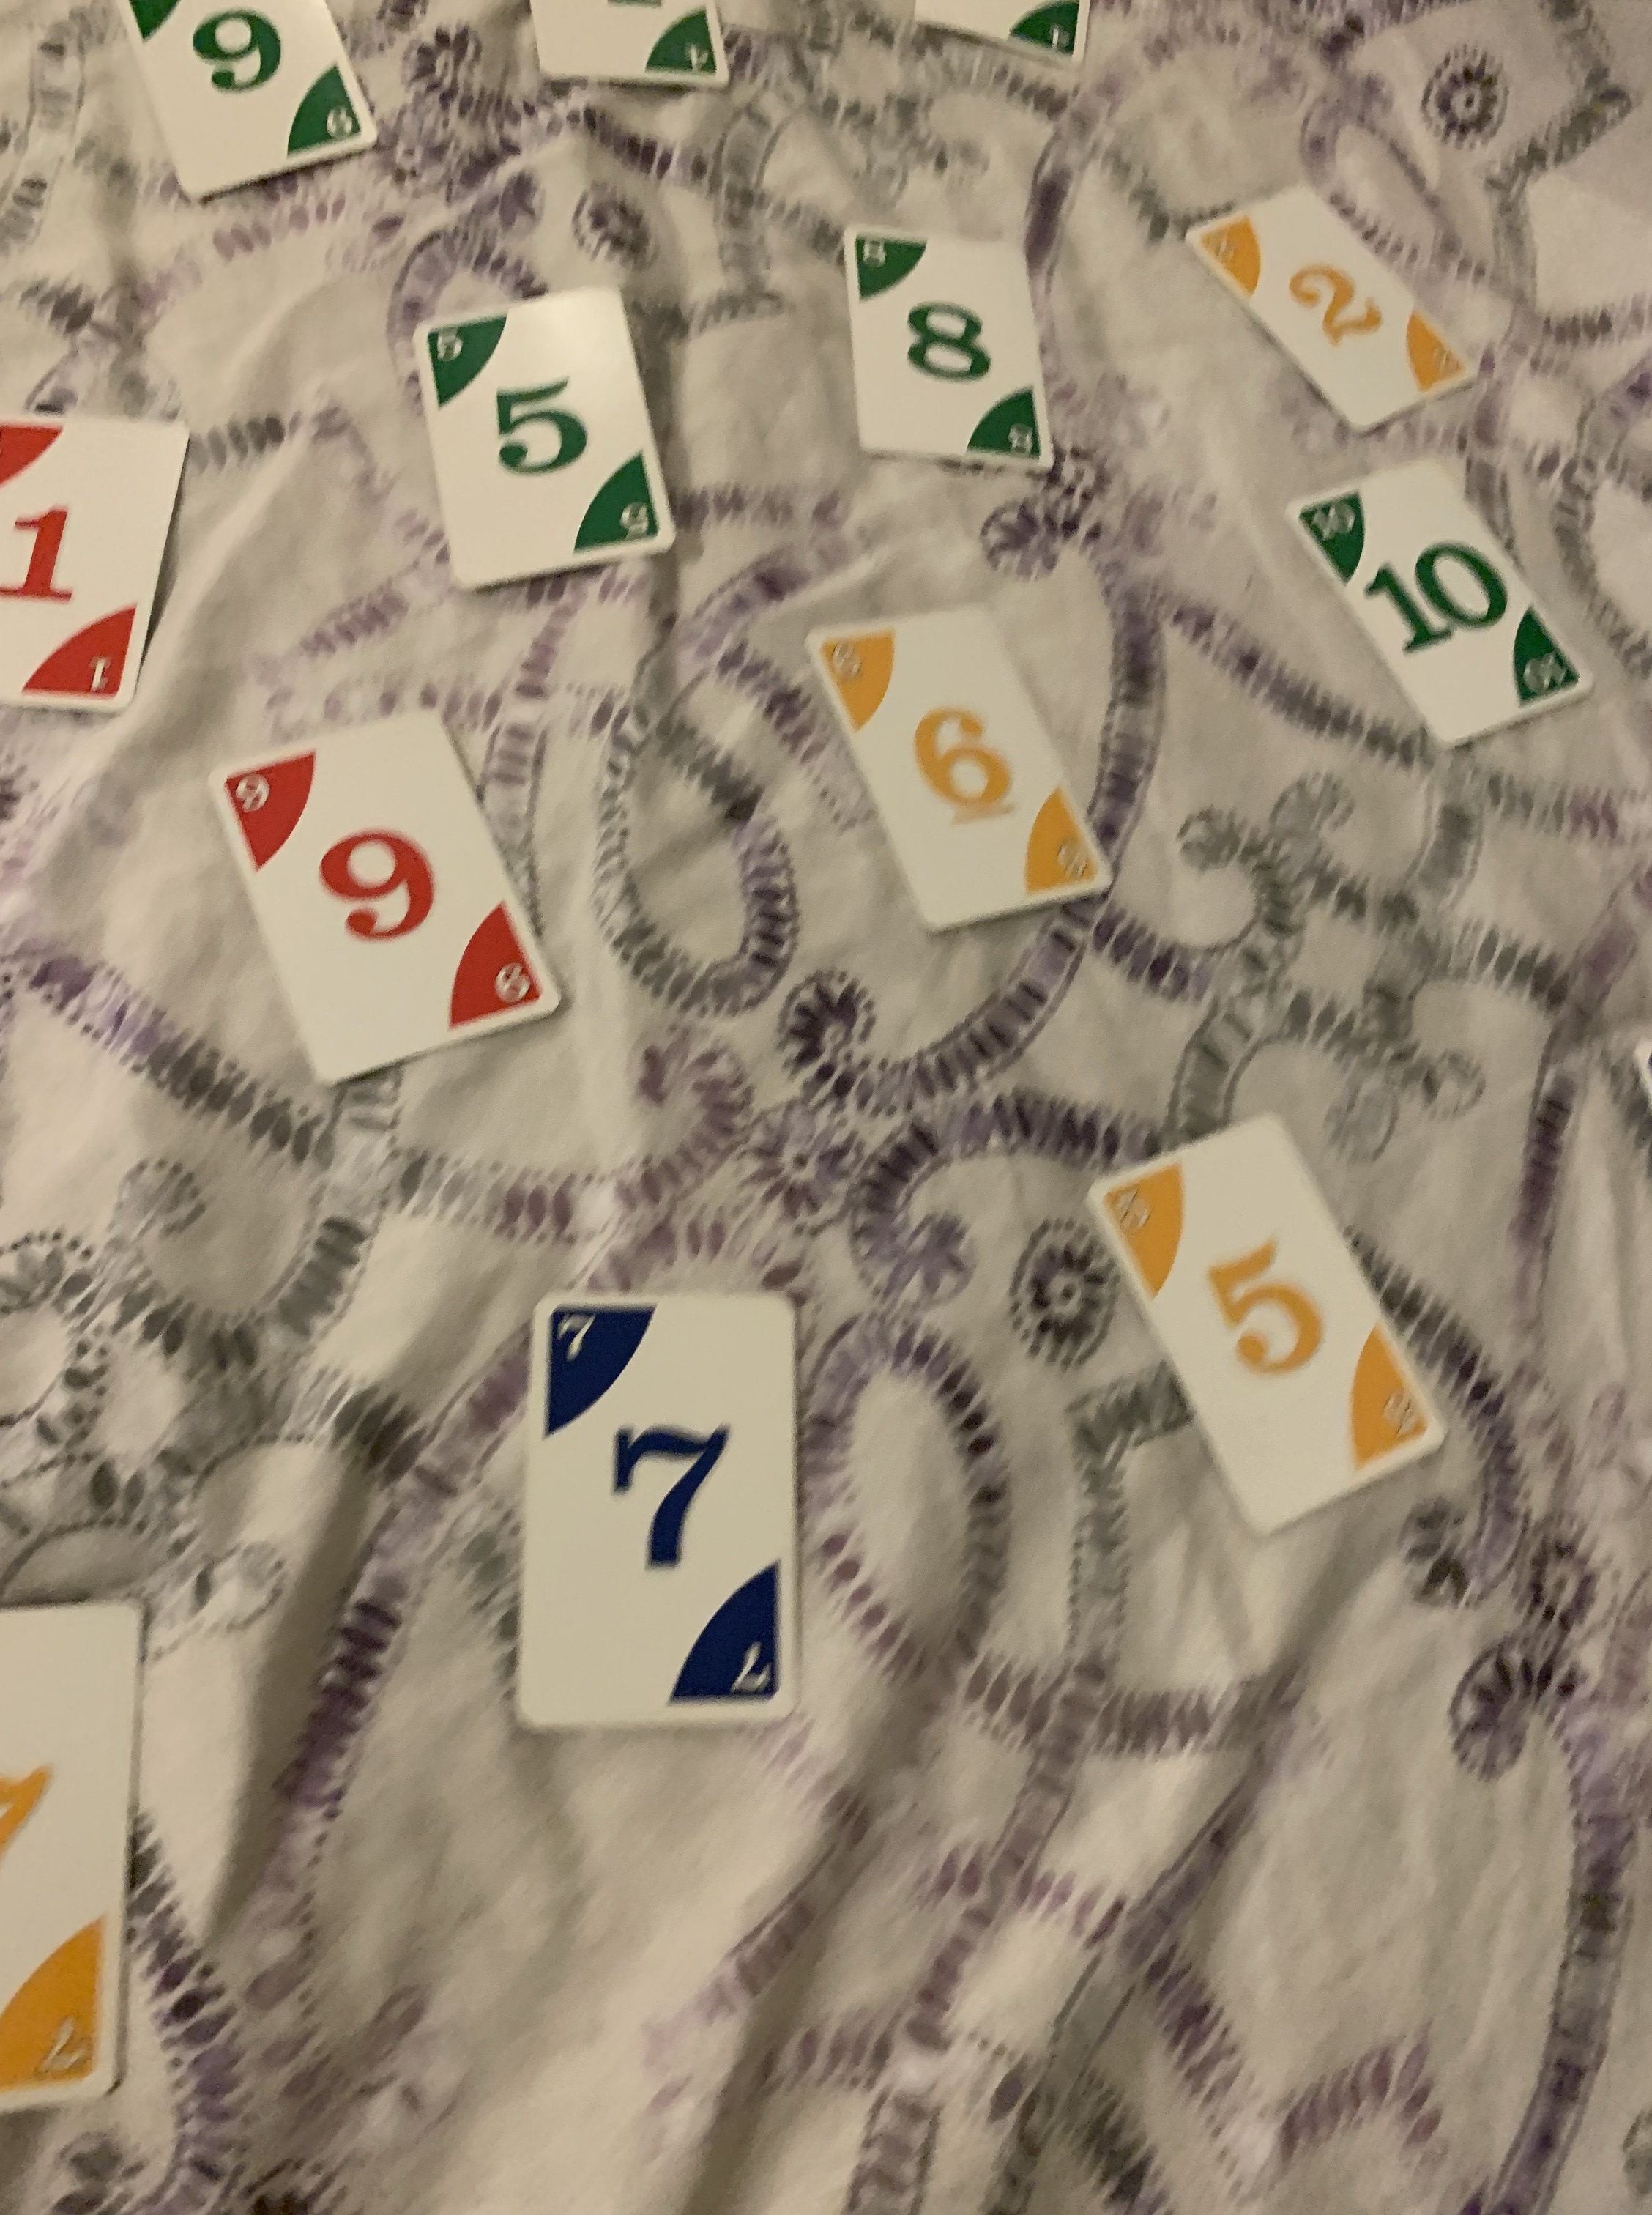eight: (842, 212, 1055, 470)
five: (1074, 1111, 1454, 1548), (385, 279, 680, 594)
nine: (206, 701, 571, 1099), (123, 0, 378, 203)
one: (0, 399, 194, 720)
seven: (514, 1286, 807, 1732)
six: (807, 601, 1116, 936)
ten: (1275, 450, 1591, 752)
two: (1177, 184, 1482, 436)
